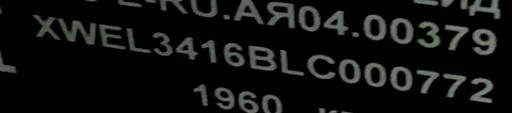letter: (56, 15, 98, 49), (97, 19, 127, 52), (245, 42, 279, 71), (30, 12, 62, 42), (304, 52, 338, 79), (412, 66, 442, 95), (278, 45, 306, 76), (124, 26, 152, 56), (468, 75, 496, 105), (440, 70, 468, 99), (149, 29, 175, 58), (174, 34, 200, 63), (221, 40, 247, 67), (337, 56, 363, 83), (361, 61, 387, 88), (388, 64, 414, 91), (198, 37, 220, 64)
